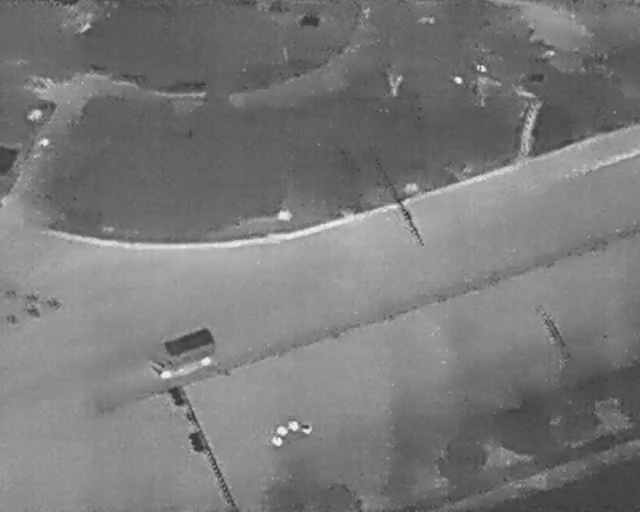OtherVehicle: (138, 322, 222, 383)
